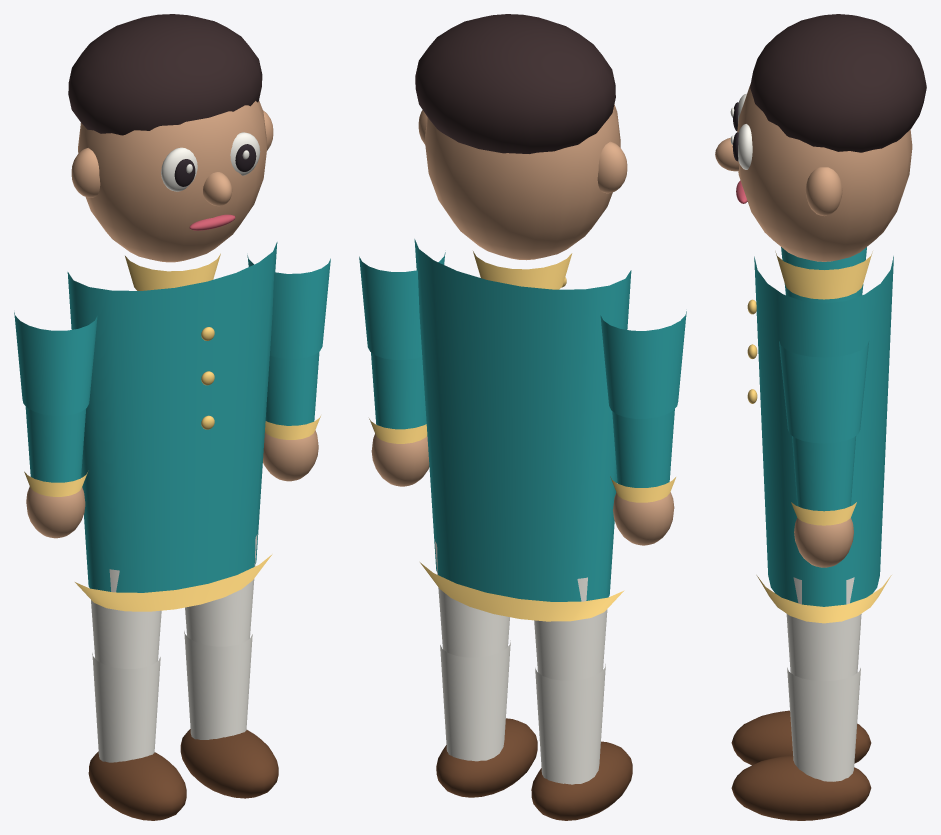
File: peacock-kurta.glb
3 renders of one model, left to right at view 1: azimuth 30°, elevation 25°; view 2: azimuth 150°, elevation 25°; view 3: azimuth 270°, elevation 25°, orthographic. The views are drawn at different scales.
Visible parts, largest first — view 1: Kurta, Hair, Head, Shin (×2), Sleeve (×2), Jutti (×2), Thigh (×2), Forearm (×2), Hand (×2), Hem, Collar, Cuff (×2) (+3 smaller); view 2: Kurta, Hair, Head, Shin (×2), Sleeve (×2), Jutti (×2), Thigh (×2), Forearm (×2), Hand (×2), Hem, Collar, Cuff (×2) (+1 smaller); view 3: Kurta, Hair, Head, Jutti (×2), Sleeve (×2), Shin, Thigh, Forearm, Collar, Hand, Hem, Ear (+3 smaller).
Boxes of the visible parts, box(x1,y1,x2,y2) form: Kurta: box(67, 242, 277, 592); Hair: box(68, 14, 262, 135); Head: box(78, 100, 266, 262); Shin (×2): box(92, 631, 252, 762); Sleeve (×2): box(14, 255, 330, 415); Jutti (×2): box(88, 729, 278, 820); Thigh (×2): box(91, 534, 257, 668); Forearm (×2): box(25, 351, 319, 482); Hand (×2): box(26, 430, 318, 538); Hem: box(75, 554, 272, 611); Collar: box(125, 253, 220, 290); Cuff (×2): box(24, 416, 320, 496); Kurta: box(414, 239, 631, 601); Hair: box(415, 14, 615, 153); Head: box(425, 104, 620, 260); Shin (×2): box(440, 640, 605, 784); Sleeve (×2): box(359, 252, 686, 418); Jutti (×2): box(436, 718, 632, 820); Thigh (×2): box(435, 541, 607, 680); Forearm (×2): box(371, 352, 674, 487); Hand (×2): box(371, 434, 674, 545); Hem: box(420, 562, 624, 621); Collar: box(473, 251, 572, 289); Cuff (×2): box(369, 418, 675, 502); Kurta: box(754, 256, 893, 606); Hair: box(750, 14, 926, 152); Head: box(737, 84, 912, 261); Jutti (×2): box(731, 710, 871, 820); Sleeve (×2): box(779, 247, 869, 443); Shin: box(787, 667, 860, 781); Thigh: box(786, 577, 861, 681); Forearm: box(792, 436, 856, 511); Collar: box(775, 251, 872, 299); Hand: box(794, 518, 853, 567); Hem: box(756, 575, 891, 623); Ear: box(805, 167, 842, 215).
Bounding box in the file's own units: 0.86 × 2.05 × 0.515.
